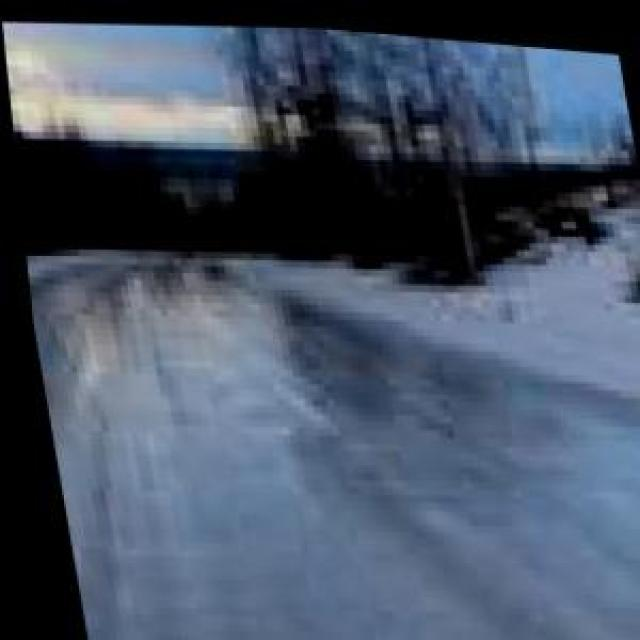ice-road: (29, 264, 640, 640)
